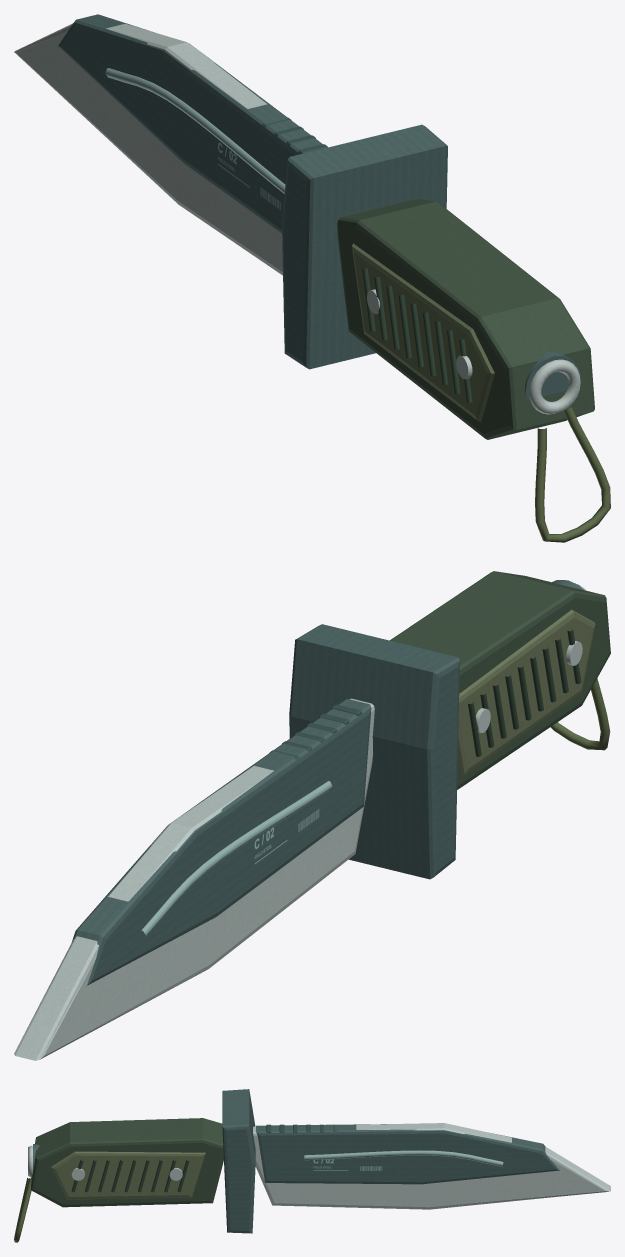
The model's file is knife.glb.
3 views of the same model, one above another, from view 1: azimuth 30°, elevation 25°; view 2: azimuth 150°, elevation 25°; view 3: azimuth 270°, elevation 25° (orthographic). The views are drawn at different scales.
Parts seen in each view (by area): view 1: knife; view 2: knife; view 3: knife.
Boxes of the visible parts, <box> form: knife: <box>14,14,610,542</box>; knife: <box>14,571,610,1060</box>; knife: <box>14,1089,610,1242</box>.
Size of the model in its own units: 0.12 by 0.2009 by 0.8114.
9 materials, 5 textured.
